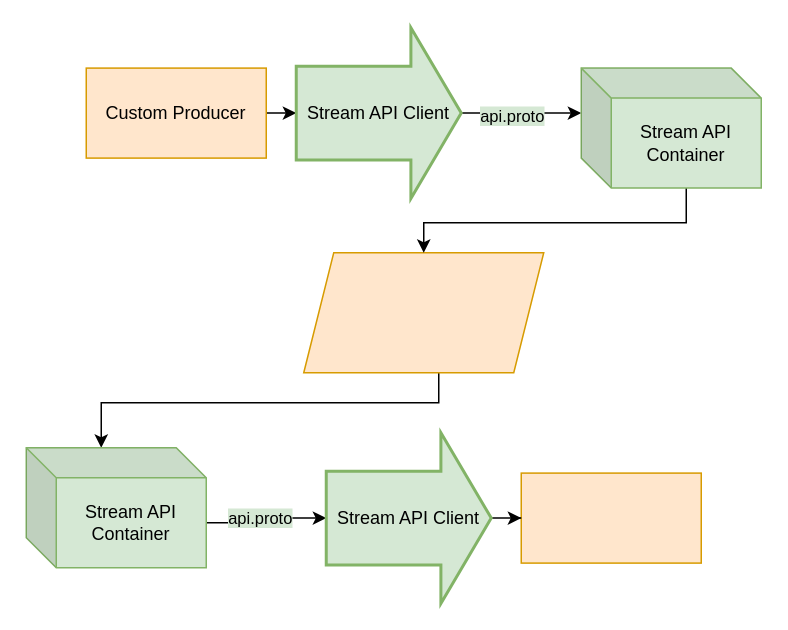
This 788x630 diagram has some shape labels left out. Each missing label, with the centre of its shape:
"Custom Consumer" belongs at point (610, 517).
"Kafka Broker" belongs at point (423, 312).
